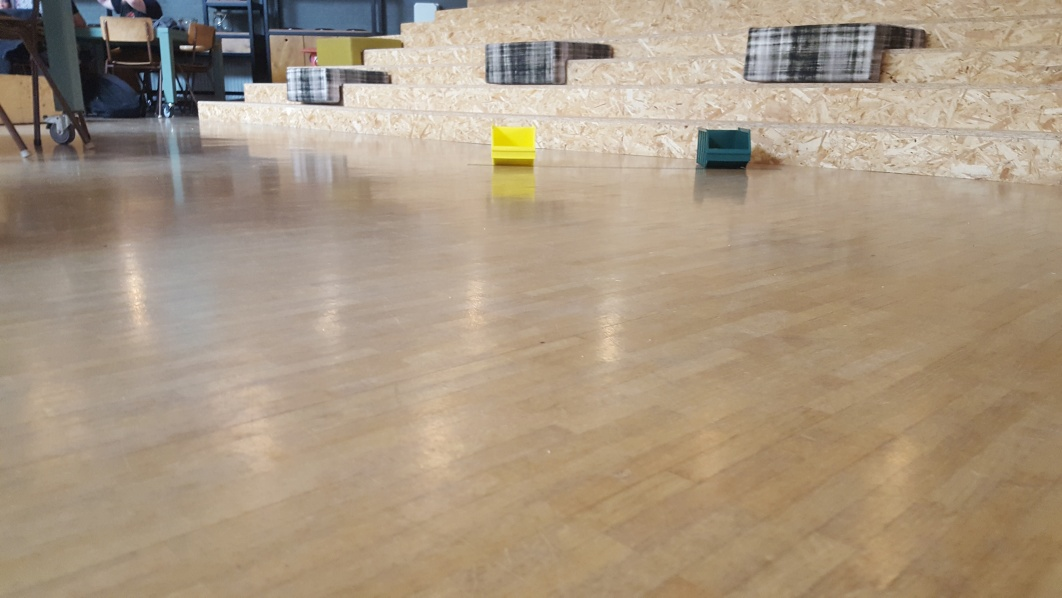tray: (692, 126, 757, 171), (487, 124, 541, 164)
